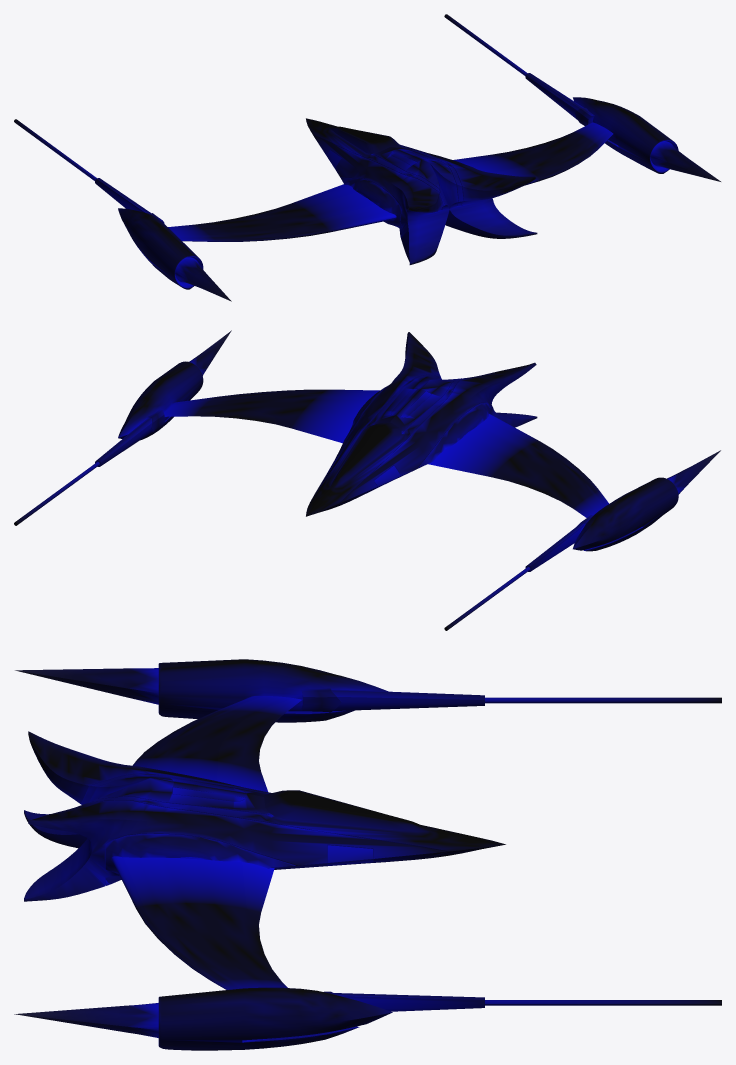
File: ff_figher_01.fbx
3 views of the same model, one above another, from view 1: azimuth 30°, elevation 25°; view 2: azimuth 150°, elevation 25°; view 3: azimuth 270°, elevation 25° (orthographic). The views are drawn at different scales.
Parts seen in each view (by area): view 1: ff_figher_01; view 2: ff_figher_01; view 3: ff_figher_01.
Boxes of the visible parts, x1=… form: ff_figher_01: x1=14, y1=14, x2=720, y2=301; ff_figher_01: x1=14, y1=330, x2=720, y2=630; ff_figher_01: x1=14, y1=659, x2=721, y2=1050.
Size of the model in its own units: 1311 by 183 by 1108.
